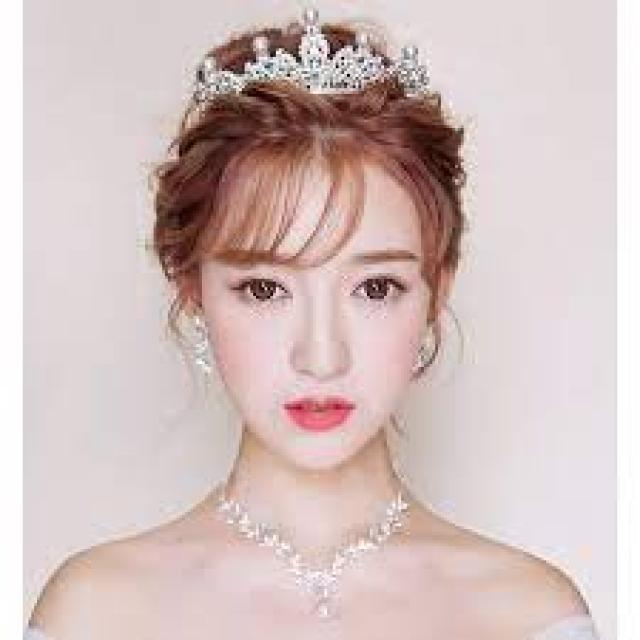Earring: (406, 320, 444, 386), (187, 300, 212, 376)
